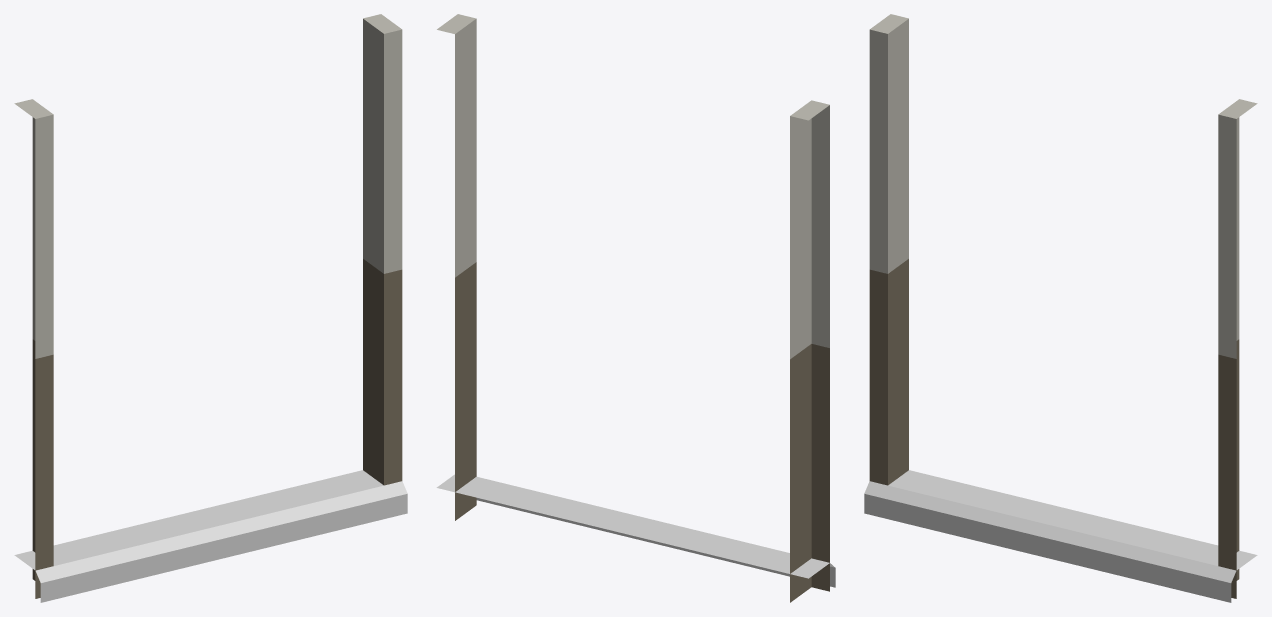
The model's file is WallGlassFrame.fbx.
3 renders of one model, left to right at view 1: azimuth 30°, elevation 25°; view 2: azimuth 150°, elevation 25°; view 3: azimuth 330°, elevation 25°, orthographic.
Parts seen in each view (by area): view 1: WallGlassFrame; view 2: WallGlassFrame; view 3: WallGlassFrame.
Boxes of the visible parts, x1=… form: WallGlassFrame: x1=14, y1=14, x2=407, y2=602; WallGlassFrame: x1=436, y1=14, x2=835, y2=602; WallGlassFrame: x1=864, y1=14, x2=1257, y2=602.
Size of the model in its own units: 2 by 2.5 by 0.2504.
